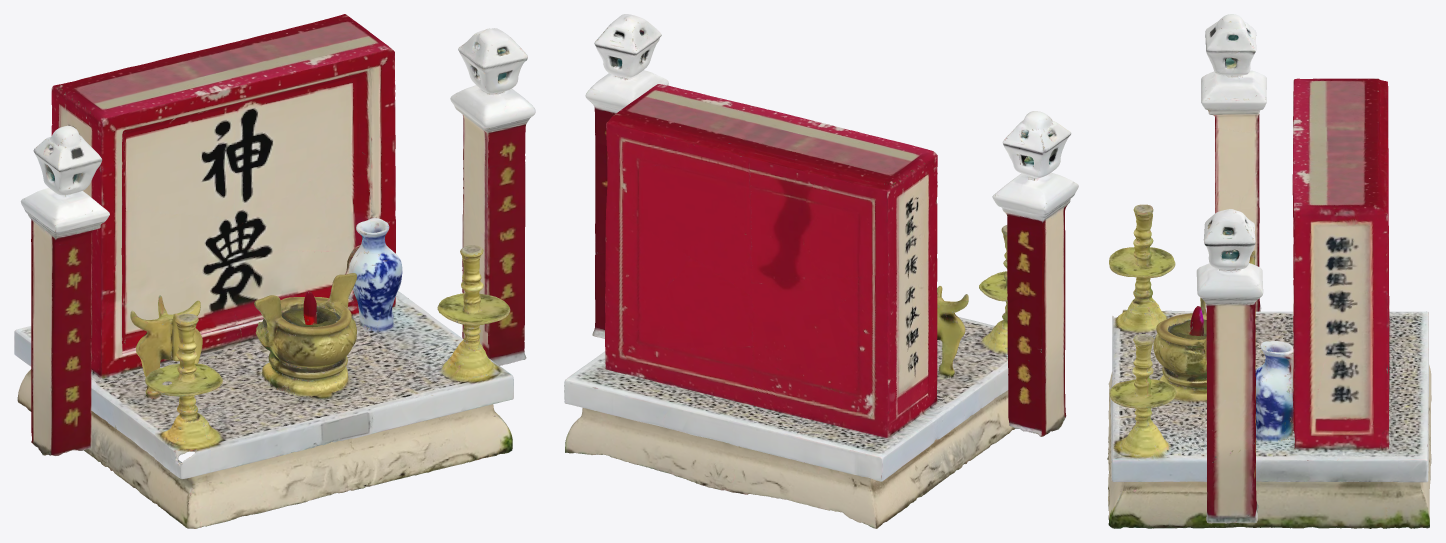
The model's file is Ban_Than_Nong.glb.
3 views of the same model, side by side, from view 1: azimuth 30°, elevation 25°; view 2: azimuth 150°, elevation 25°; view 3: azimuth 270°, elevation 25° (orthographic). The views are drawn at different scales.
Bounding box in the file's own units: 2 × 1.47 × 1.27.
1 material, 1 textured.
